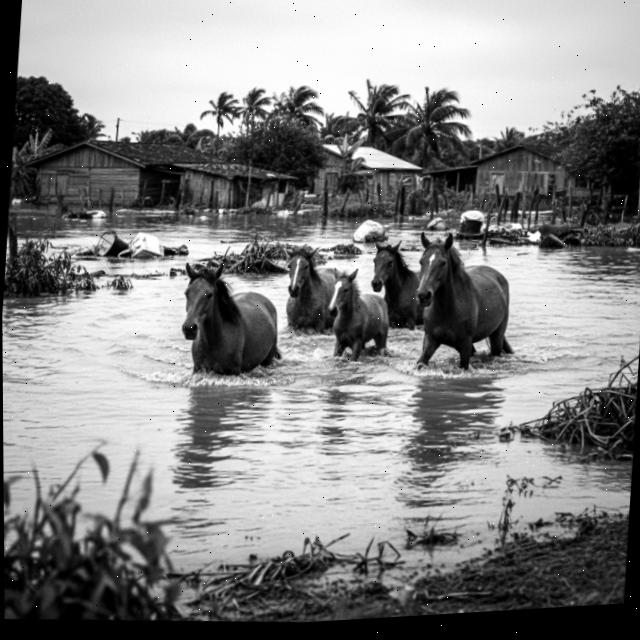horse: (153, 248, 296, 394), (397, 226, 523, 382), (264, 238, 354, 341), (355, 231, 437, 334), (314, 266, 397, 365)
